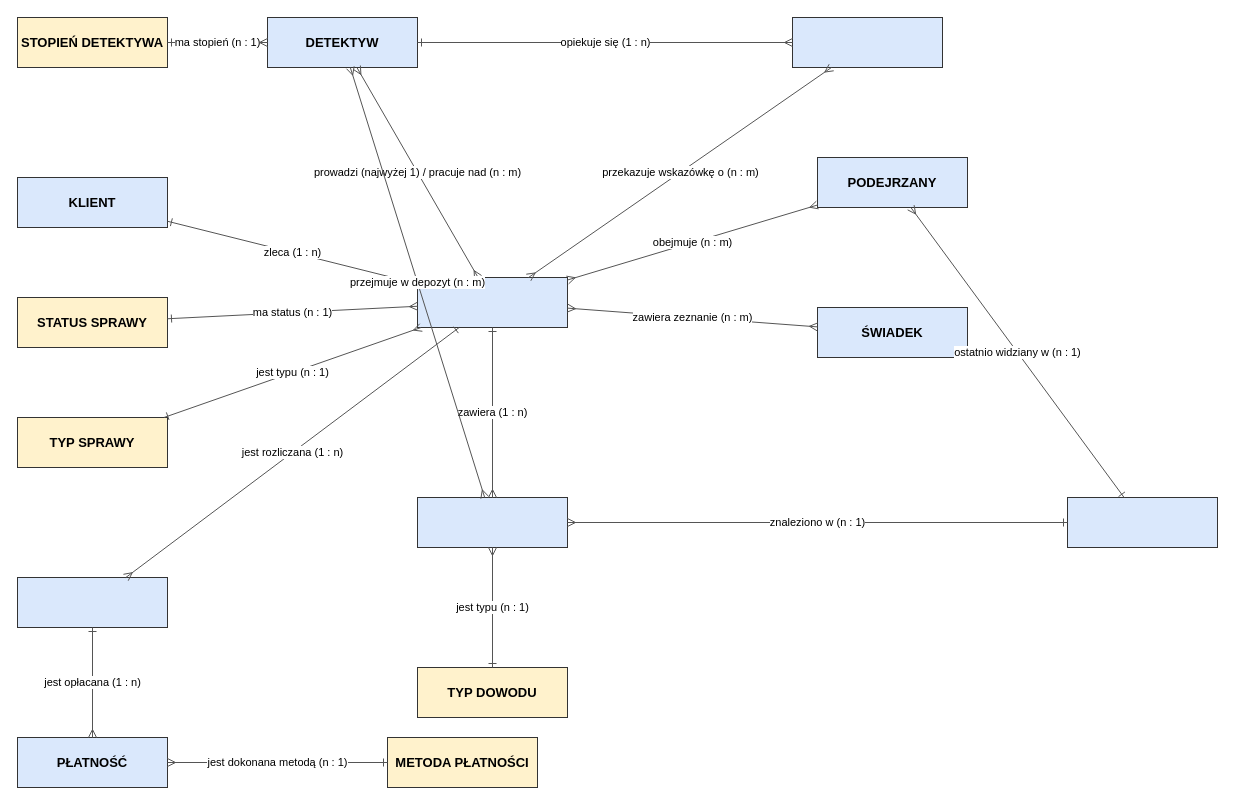
Image size: 1235x805. Some labels were removed from this diagram. The centre of each missing label's shape, as x and y in pixels:
DOWÓD: pixel 492 522
FAKTURA: pixel 92 602
INFORMATOR: pixel 867 42
LOKALIZACJA: pixel 1142 522
SPRAWA: pixel 492 302
